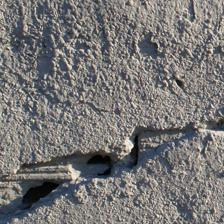Crack: (10, 145, 111, 216), (127, 117, 224, 167)
